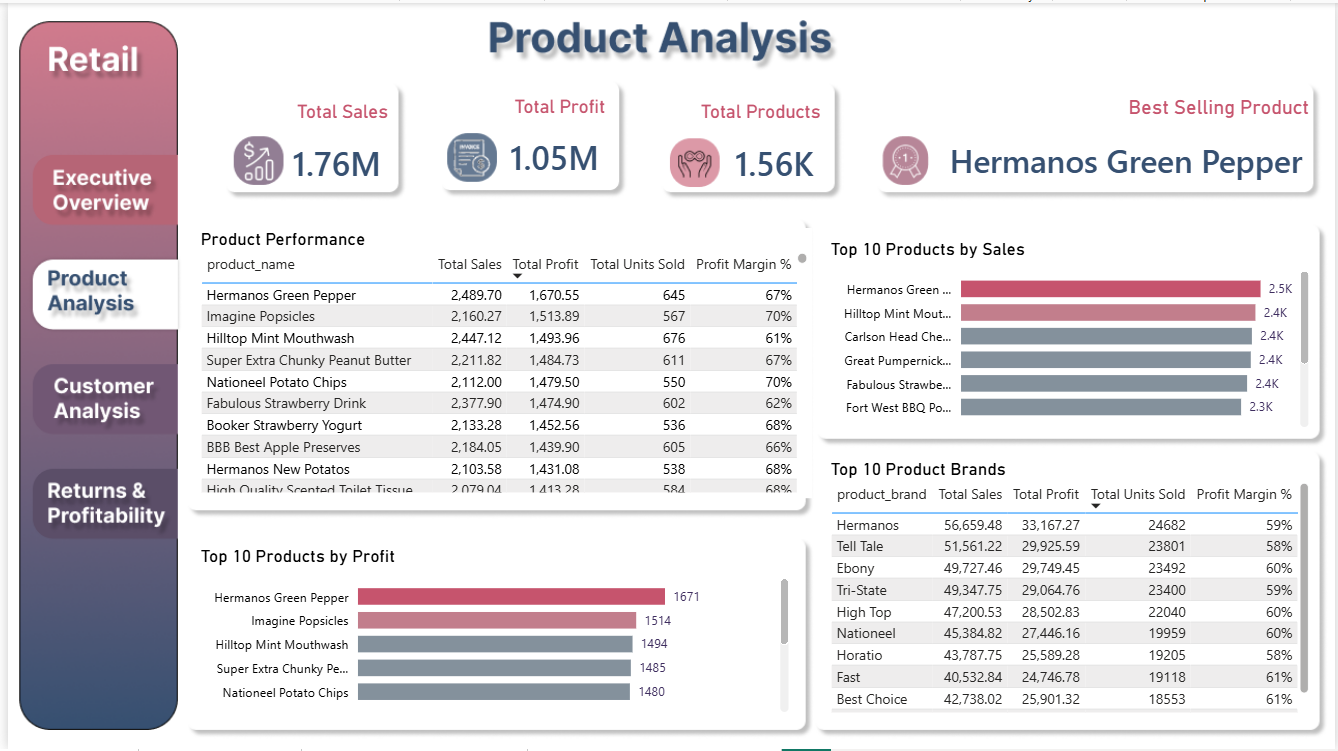

Layout of this report page (visuals, bound fields, positions):
{"tool":"powerbi","page":{"name":"Product Analysis ","canvas":[1280,720],"ordinal":1},"visuals":[{"type":"tableEx","title":"Product Performance","fields":{"Values":["dimproduct.product_name","Measure.Total Sales","Measure.Total Profit","Measure.Total Units Sold","Measure.Profit Margin %"]},"box":[180.4,216.8,595,260.4],"z":0},{"type":"tableEx","title":"Top 10 Product Brands","fields":{"Values":["dimproduct.product_brand","Measure.Total Sales","Measure.Total Profit","Measure.Total Units Sold","Measure.Profit Margin %"]},"box":[788.5,439.4,471.4,250.2],"z":1000},{"type":"barChart","title":"Top 10 Products by Sales","fields":{"Y":["Measure.Total Sales"],"Category":["dimproduct.product_name"]},"box":[788.5,227,471.4,187.7],"z":2000},{"type":"barChart","title":"Top 10 Products by Profit","fields":{"Category":["dimproduct.product_name"],"Y":["Measure.Total Profit"]},"box":[180.4,523.8,577.6,165.9],"z":3000},{"type":"cardVisual","title":"Total Sales","fields":{"Data":["Measure.Total Sales"]},"box":[226.8,94.1,144.8,94.1],"z":4000},{"type":"cardVisual","title":"Total Profit","fields":{"Data":["Measure.Total Profit"]},"box":[434.3,89.3,147.2,92.9],"z":5000},{"type":"cardVisual","title":"Total Products","fields":{"Data":["Measure.Total Products"]},"box":[639.4,94.1,149.6,94.1],"z":6000},{"type":"cardVisual","title":"Best Selling Product","fields":{"Data":["Measure.Best Selling Product"]},"box":[861.4,89.3,399.3,98.9],"z":7000}]}

Visuals, with their boxes in screenshot pixels (x1, y1, x2, y2), scaled from the page's 1280x720 canvas onto the 1338x751 screenshot:
"Product Performance" tableEx: bbox=[189, 226, 811, 498]
"Top 10 Product Brands" tableEx: bbox=[824, 458, 1317, 719]
"Top 10 Products by Sales" barChart: bbox=[824, 237, 1317, 433]
"Top 10 Products by Profit" barChart: bbox=[189, 546, 792, 719]
"Total Sales" cardVisual: bbox=[237, 98, 388, 196]
"Total Profit" cardVisual: bbox=[454, 93, 608, 190]
"Total Products" cardVisual: bbox=[668, 98, 825, 196]
"Best Selling Product" cardVisual: bbox=[900, 93, 1318, 196]
